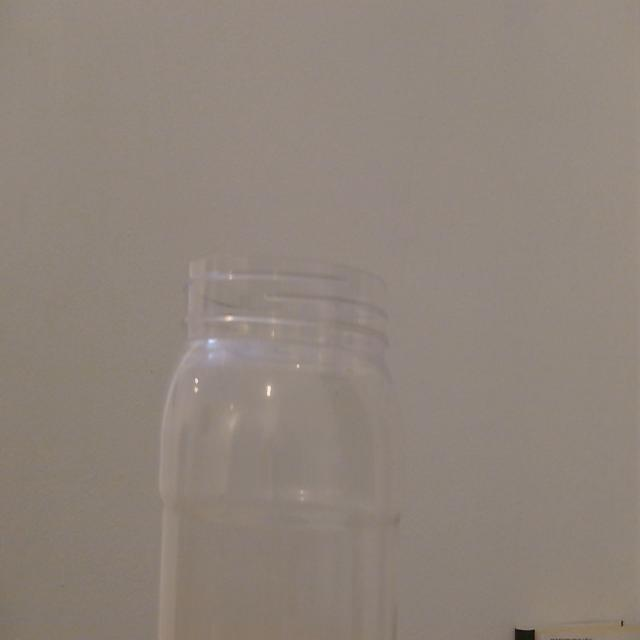missing_cap: (165, 235, 418, 386)
